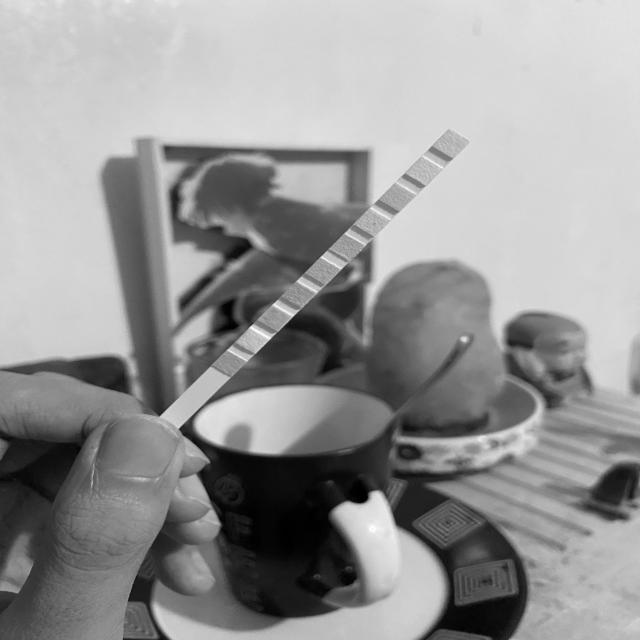Bilirubin: (242, 336, 263, 347)
Blood: (312, 265, 334, 277)
Glucose: (220, 358, 241, 370)
Ketone: (266, 312, 285, 324)
Leukocytes: (441, 138, 461, 151)
Nitrite: (413, 165, 436, 177)
Protein: (362, 216, 382, 228)
SpGravity: (290, 290, 310, 300)
Urobilinogen: (388, 190, 408, 204)
background: (0, 0, 640, 640)
pH: (337, 240, 358, 253)
strip: (165, 131, 470, 423)
